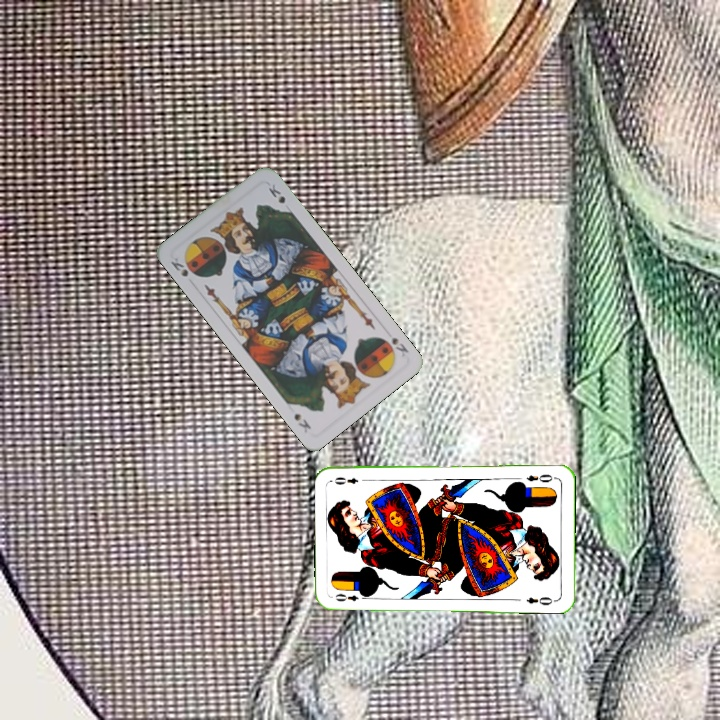EO: (331, 588, 370, 604), (522, 470, 555, 485)
SK: (166, 252, 191, 279), (387, 332, 411, 359)
